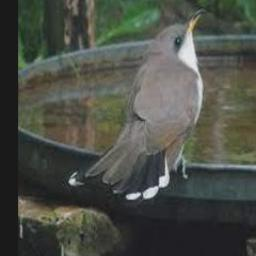Cuckoo: (69, 9, 207, 198)
